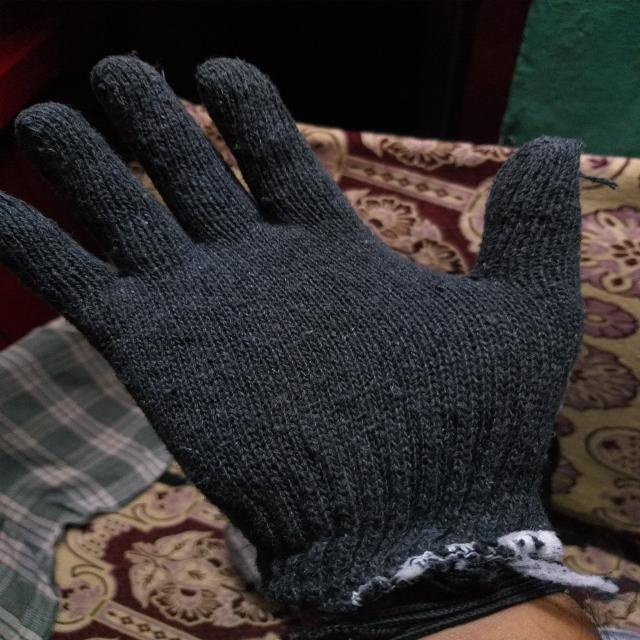glove_hand: (0, 43, 586, 634)
